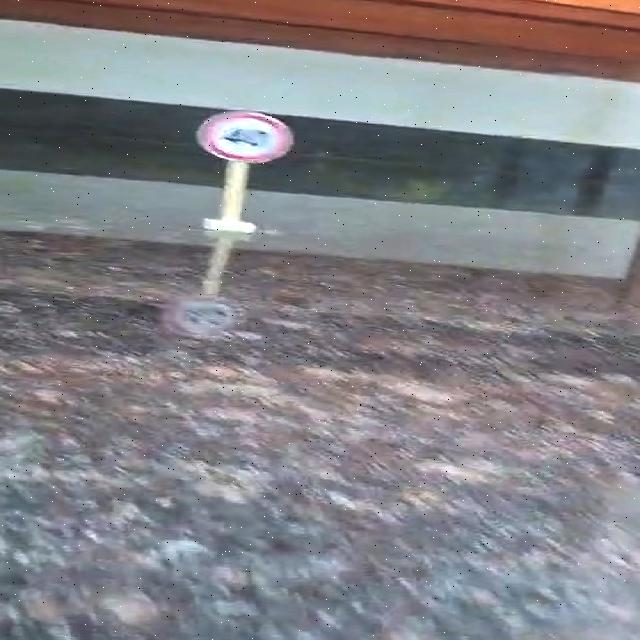Speed40: (190, 106, 302, 167)
